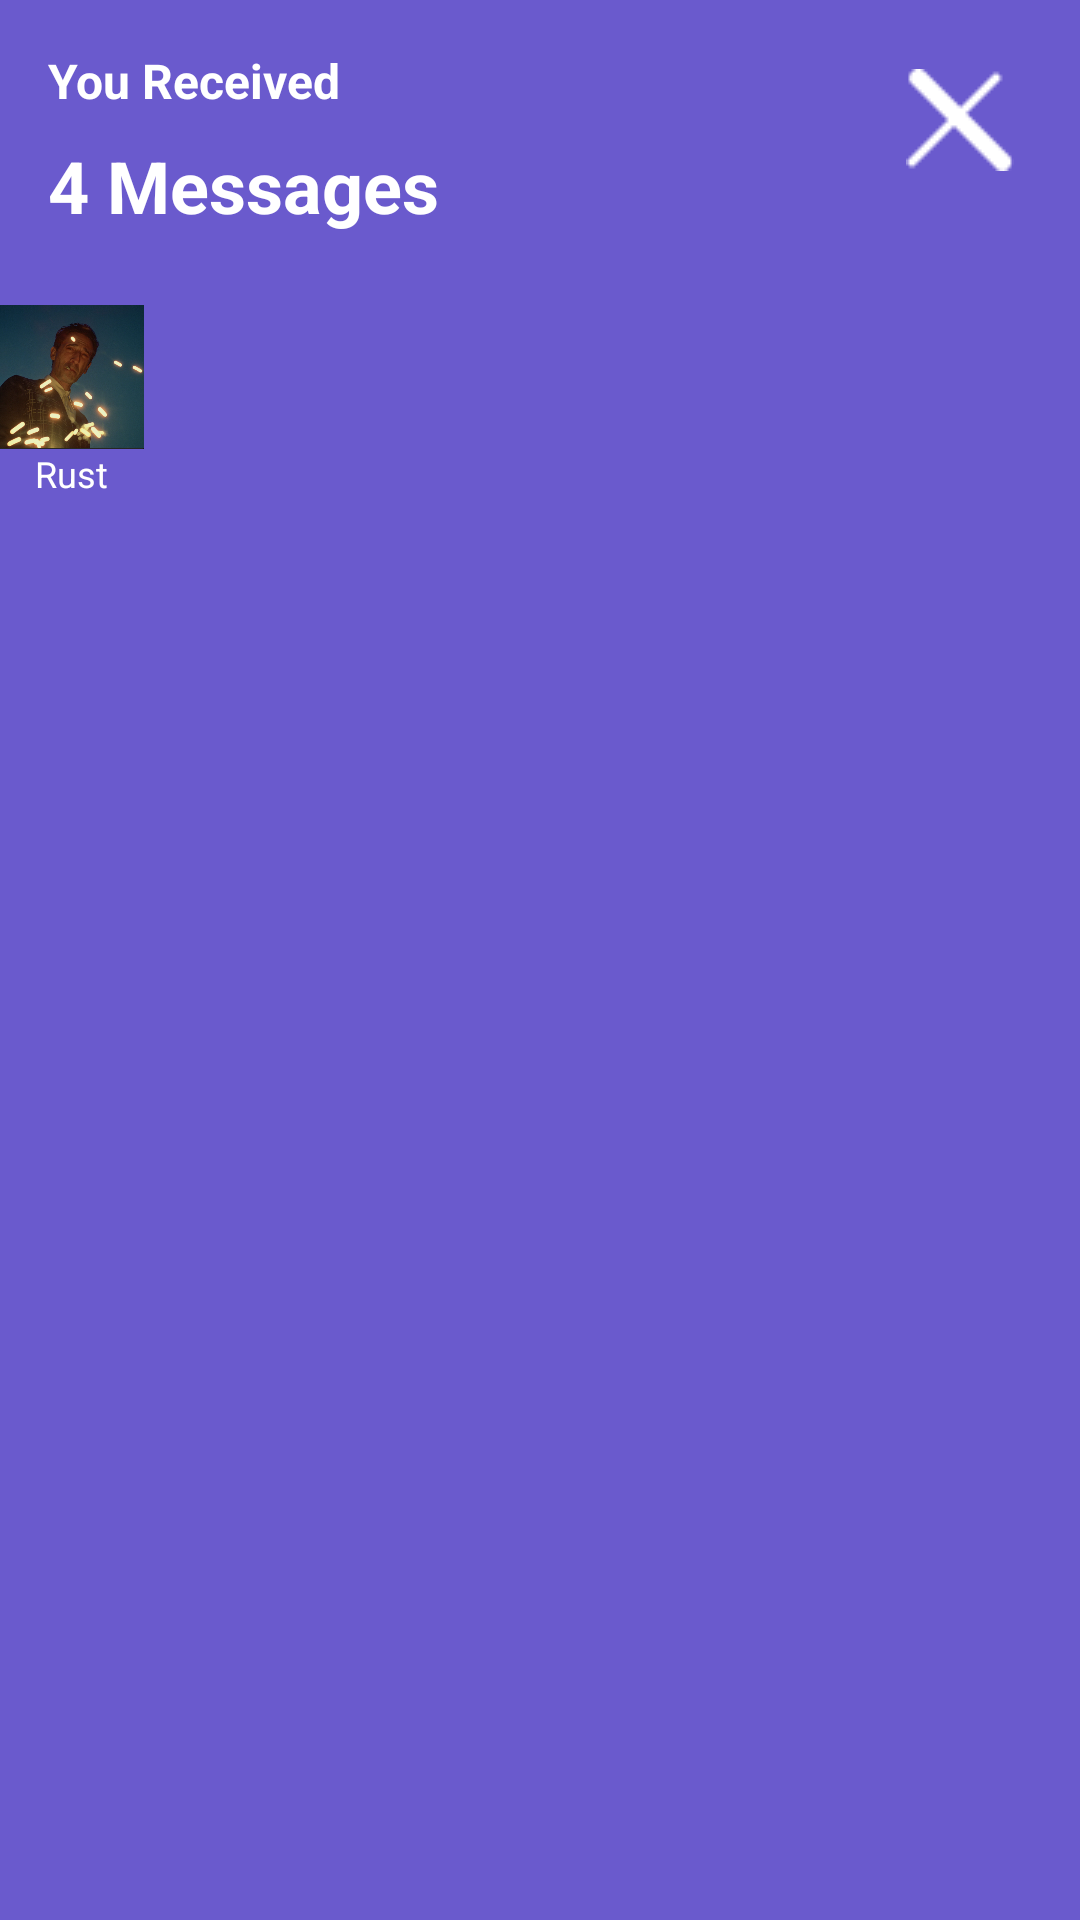

Screen size 1080w x 1920h. Icon name, then its box in pixels as [x1,y1,x2,y2]:
Close: [906,69,1012,171]
pfpsig: [0,305,144,449]
